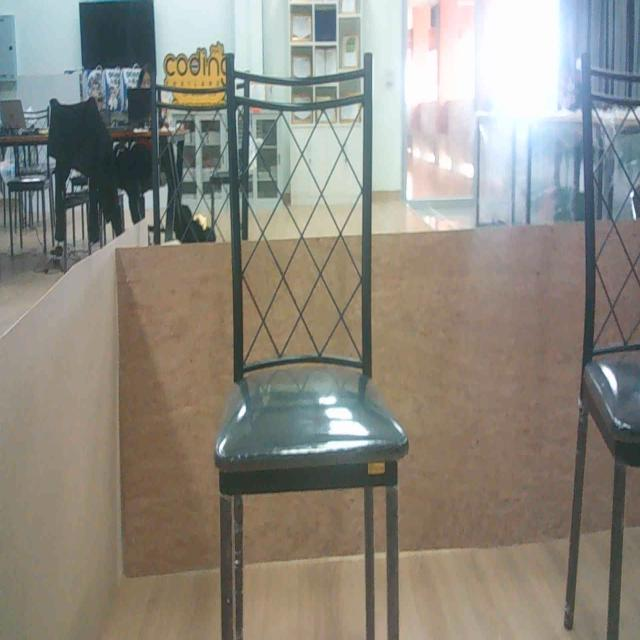emtpy: (205, 42, 417, 640)
